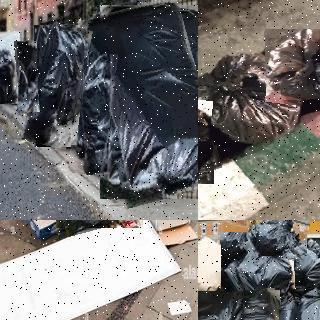Garbage: (88, 0, 198, 204), (198, 51, 305, 146), (28, 23, 87, 149), (221, 232, 295, 311), (72, 51, 115, 176), (264, 28, 320, 100), (198, 289, 281, 320), (245, 220, 309, 259), (16, 41, 39, 113), (0, 45, 18, 104), (305, 237, 320, 296)
